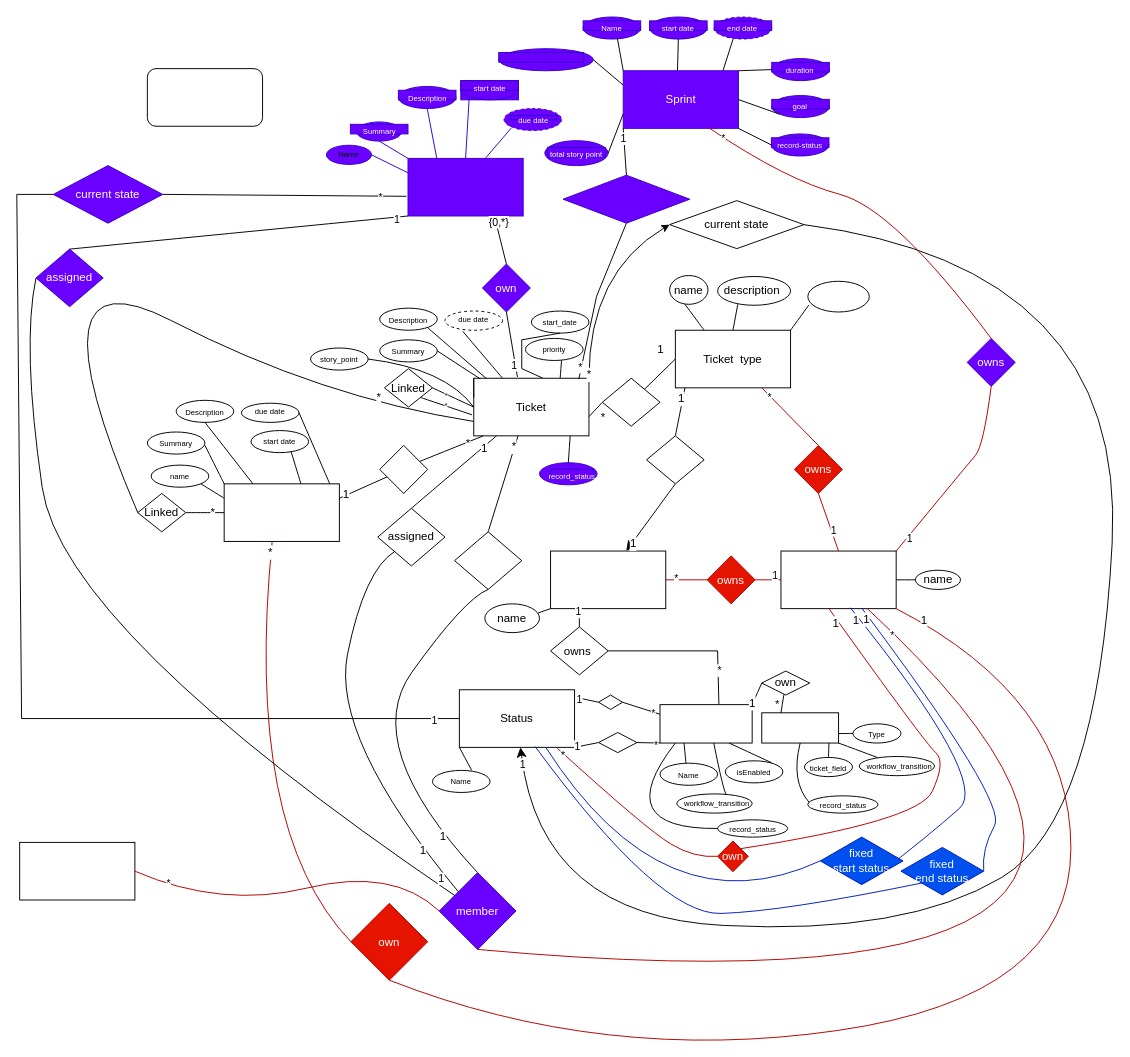
The diagram is 1130 pixels wide and 1057 high, and some of its shapes have lost their labels. Here are the shapes that lost their labels. From the top down, the centre of each, then its label:
At pixel 545 59: "total ended story point".
At pixel 204 97: "ER MODEL".
At pixel 465 186: "Sub task".
At pixel 626 198: "assigned to".
At pixel 838 296: "icon_url".
At pixel 630 401: "categorizes".
At pixel 403 468: "pather".
At pixel 675 459: "applied to".
At pixel 281 512: "Epic".
At pixel 488 560: "Create".
At pixel 608 579: "Workflow".
At pixel 838 579: "Project".
At pixel 610 701: "To".
At pixel 617 742: "from".
At pixel 705 723: "Work Flow Transaction".
At pixel 800 727: "Validation Rule".
At pixel 77 870: "Users".
